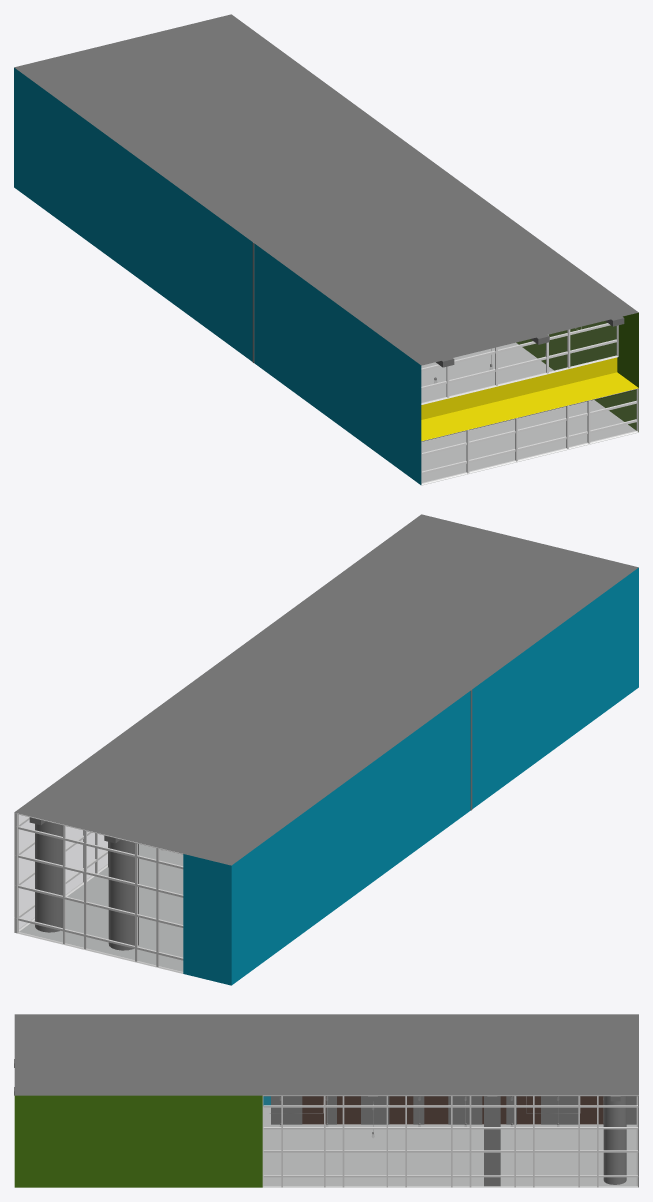
The model's file is playground.fbx.
3 renders of one model, top to bottom at view 1: azimuth 30°, elevation 25°; view 2: azimuth 150°, elevation 25°; view 3: azimuth 270°, elevation 25°, orthographic. The views are drawn at different scales.
Visible parts, largest first — view 1: Playground_Extents, BackWallLowerFrame, BackWallUpperFrame; view 2: Playground_Extents, FrontWindowFrame, RoundPillar02, RoundPillar01, RightWindowFrame; view 3: Playground_Extents, RightWindowFrame, Rooms_Right_Wall, RoundPillar02, Pillar02, PivotDoor008, PivotDoor007, PivotDoor003, PivotDoor004, PivotDoor010, PivotDoor011.
Boxes of the visible parts, x1=… form: Playground_Extents: x1=14, y1=14, x2=638, y2=485; BackWallLowerFrame: x1=421, y1=388, x2=638, y2=485; BackWallUpperFrame: x1=421, y1=323, x2=618, y2=404; Playground_Extents: x1=14, y1=514, x2=638, y2=985; FrontWindowFrame: x1=17, y1=813, x2=185, y2=974; RoundPillar02: x1=35, y1=821, x2=62, y2=932; RoundPillar01: x1=108, y1=839, x2=138, y2=950; RightWindowFrame: x1=14, y1=813, x2=107, y2=933; Playground_Extents: x1=14, y1=1014, x2=638, y2=1187; RightWindowFrame: x1=262, y1=1095, x2=638, y2=1187; Rooms_Right_Wall: x1=271, y1=1096, x2=636, y2=1124; RoundPillar02: x1=603, y1=1096, x2=626, y2=1184; Pillar02: x1=484, y1=1096, x2=500, y2=1186; PivotDoor008: x1=424, y1=1096, x2=448, y2=1124; PivotDoor007: x1=389, y1=1096, x2=413, y2=1124; PivotDoor003: x1=302, y1=1096, x2=326, y2=1124; PivotDoor004: x1=337, y1=1096, x2=360, y2=1124; PivotDoor010: x1=517, y1=1096, x2=540, y2=1124; PivotDoor011: x1=580, y1=1096, x2=603, y2=1124.
Size of the model in its own units: 1159 by 613 by 3758.
